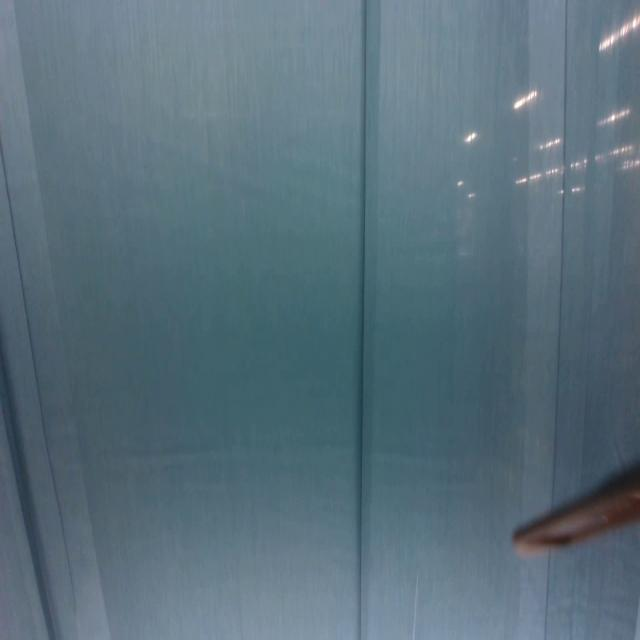crease: (0, 0, 112, 640), (526, 0, 593, 489), (354, 0, 384, 640), (521, 557, 587, 640), (410, 571, 421, 639)
